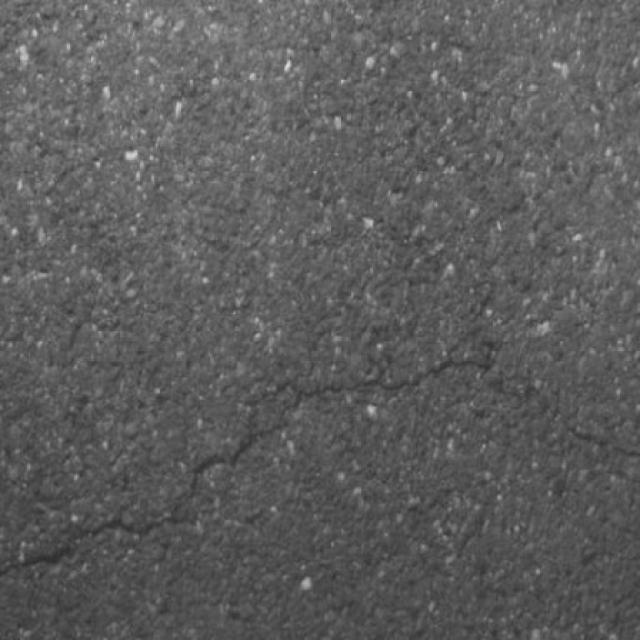Horizontal Crack: (2, 354, 640, 579)
